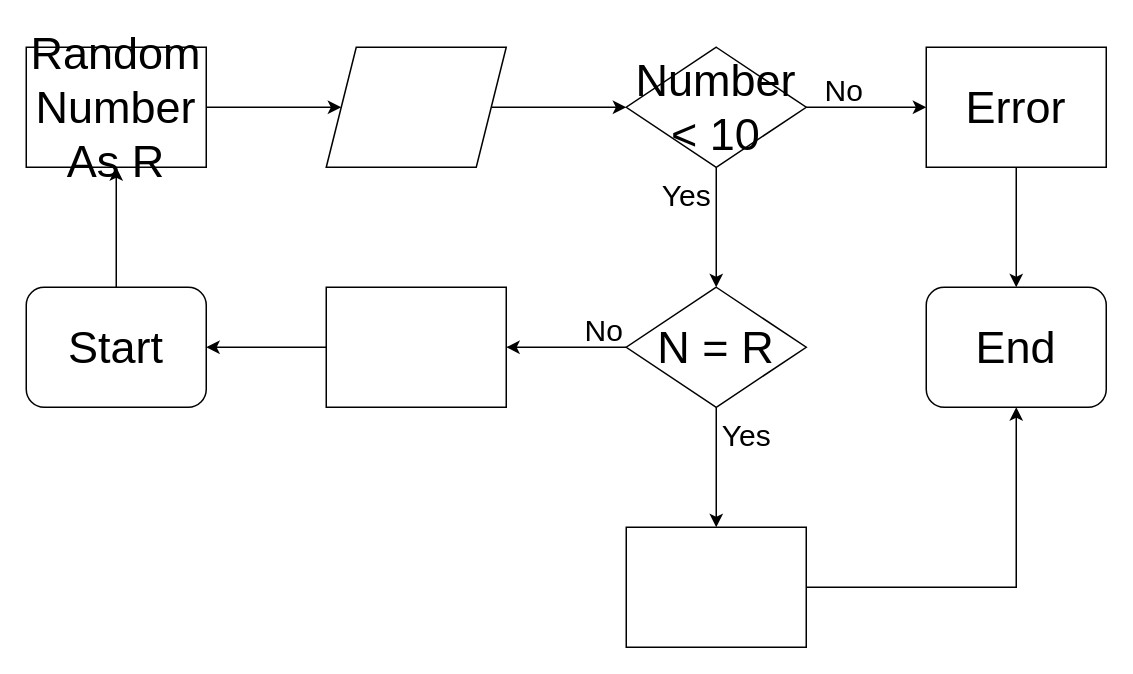
Image size: 1133x674. Some labels were removed from this diagram. Each missing label, with the centre of its shape:
"Bad Luck" goes at (415,346).
"Correct Number!" goes at (715,586).
"Enter Number As N" goes at (415,106).
